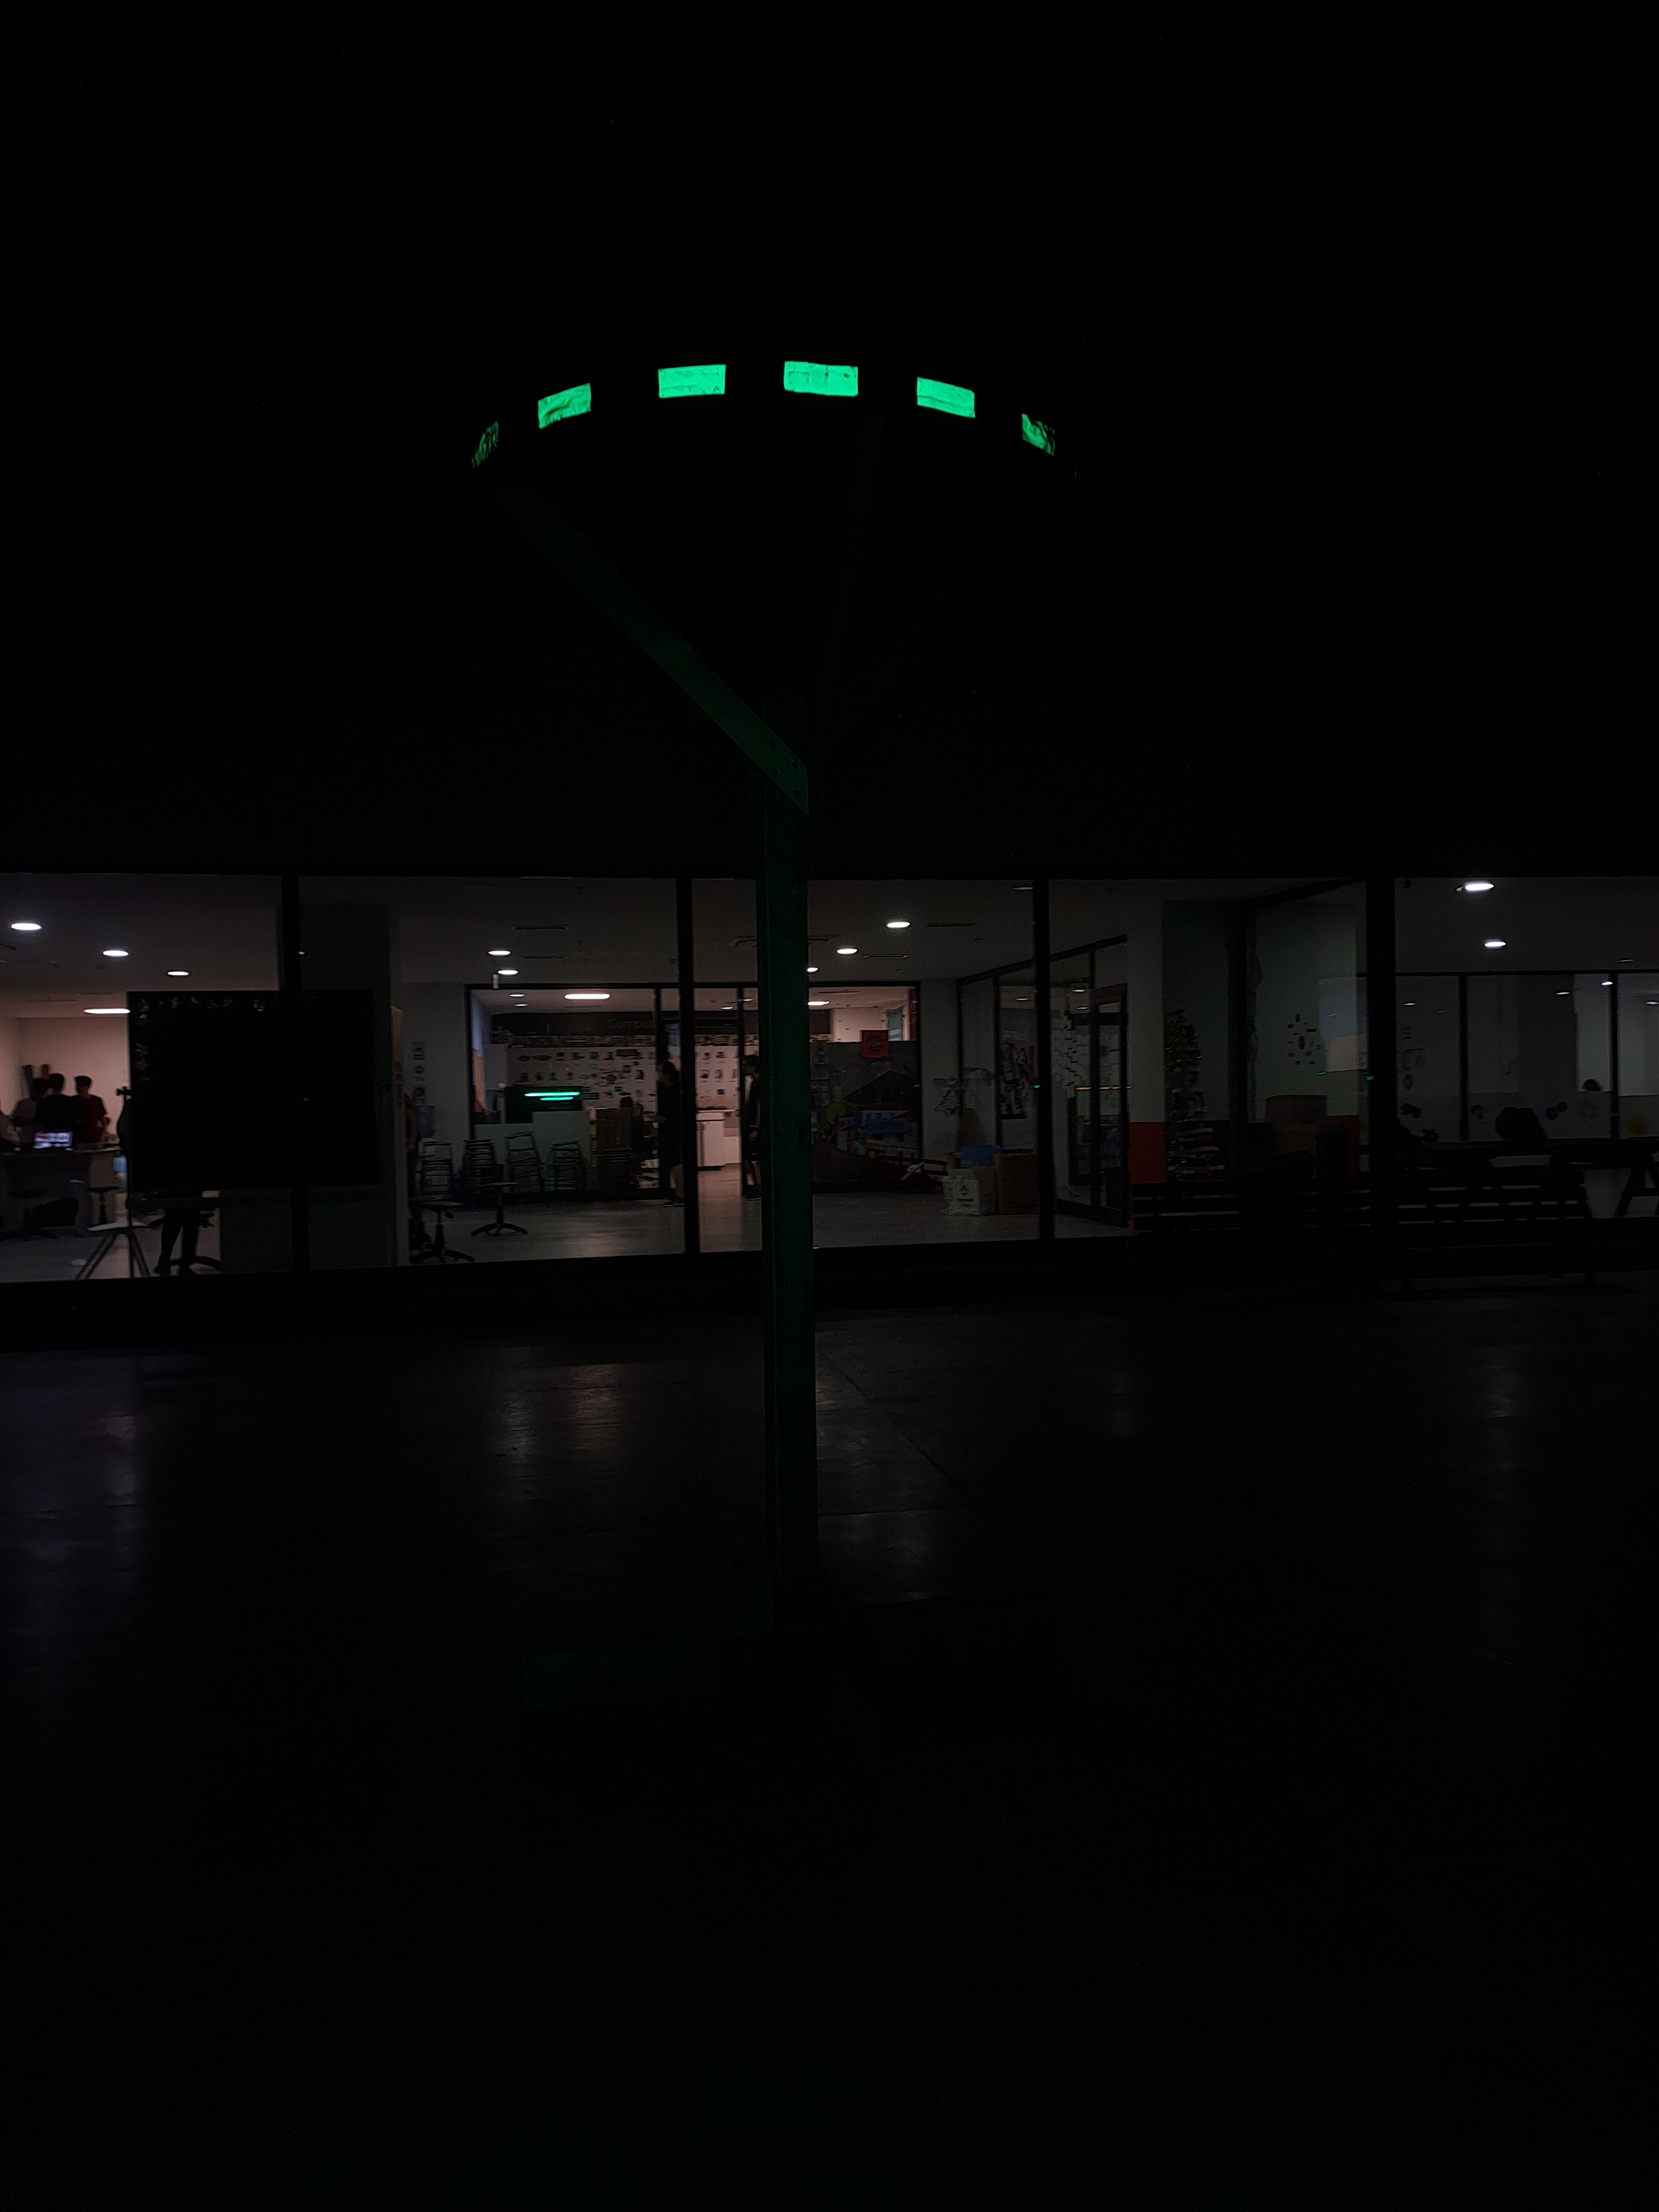hoop: (476, 361, 1060, 472)
